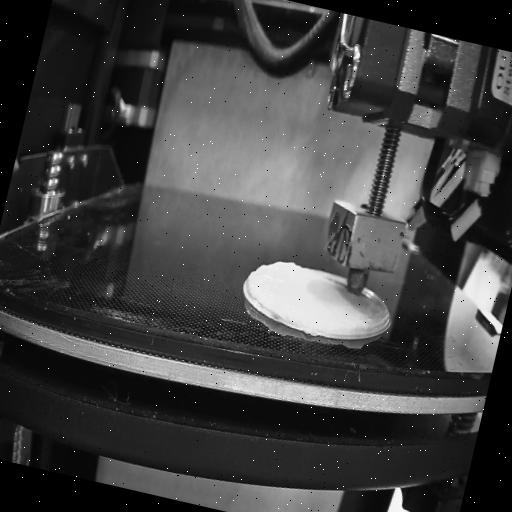over_extrusion: (238, 258, 270, 306)
